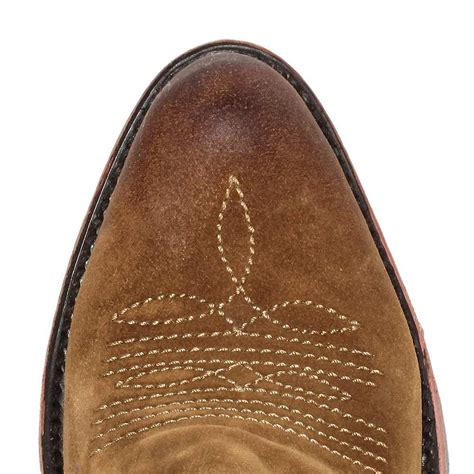gamuza: (60, 52, 423, 474)
